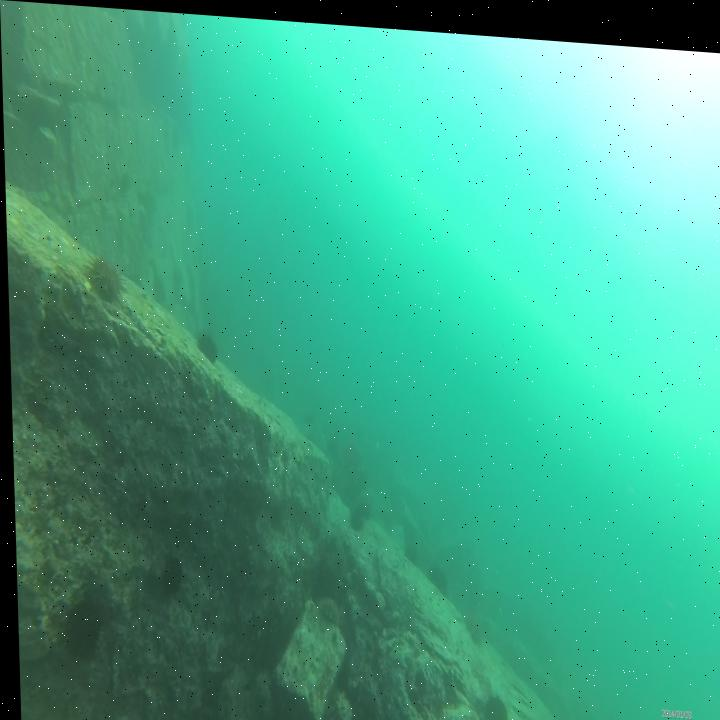echinus: (78, 245, 130, 308), (55, 594, 103, 661), (190, 318, 220, 365), (479, 680, 504, 720)
